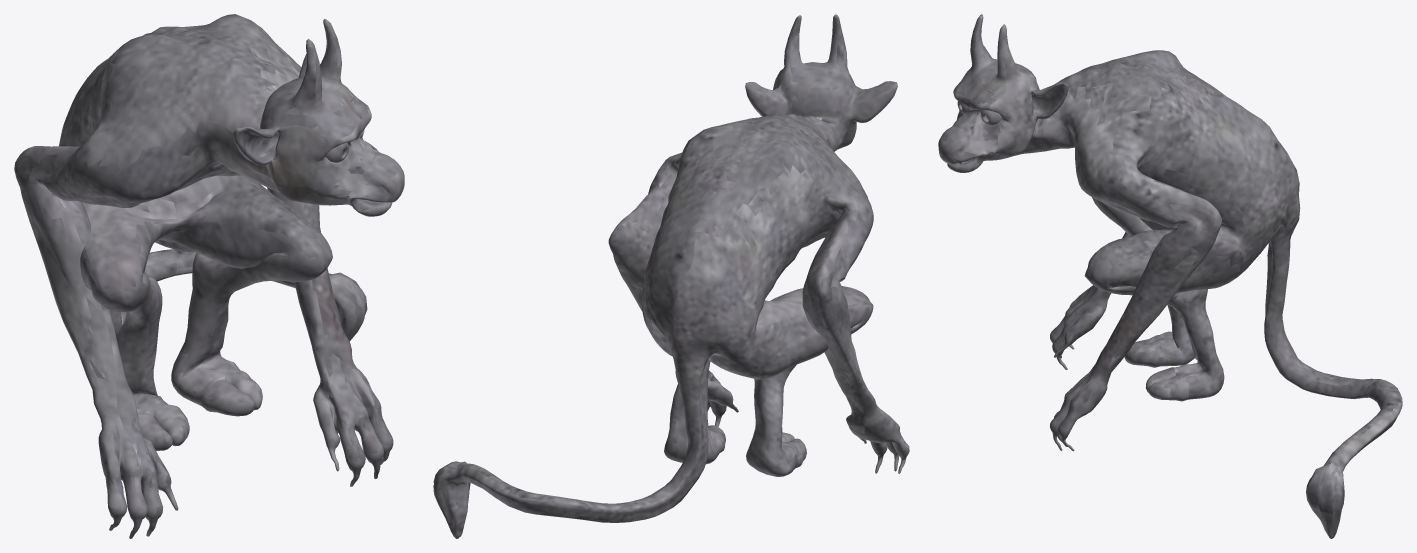
Rendered from creature-gargoyle.glb.
3 views of the same model, side by side, from view 1: azimuth 30°, elevation 25°; view 2: azimuth 150°, elevation 25°; view 3: azimuth 270°, elevation 25° (orthographic). The views are drawn at different scales.
Parts seen in each view (by area): view 1: creature-gargoyle; view 2: creature-gargoyle; view 3: creature-gargoyle.
Boxes of the visible parts, left/top/right/bottom form: creature-gargoyle: left=14, top=14, right=404, bottom=538; creature-gargoyle: left=433, top=14, right=909, bottom=538; creature-gargoyle: left=938, top=14, right=1402, bottom=538.
Size of the model in its own units: 1.28 by 1.6 by 1.56.
Materials: 1 (1 with a texture image).
